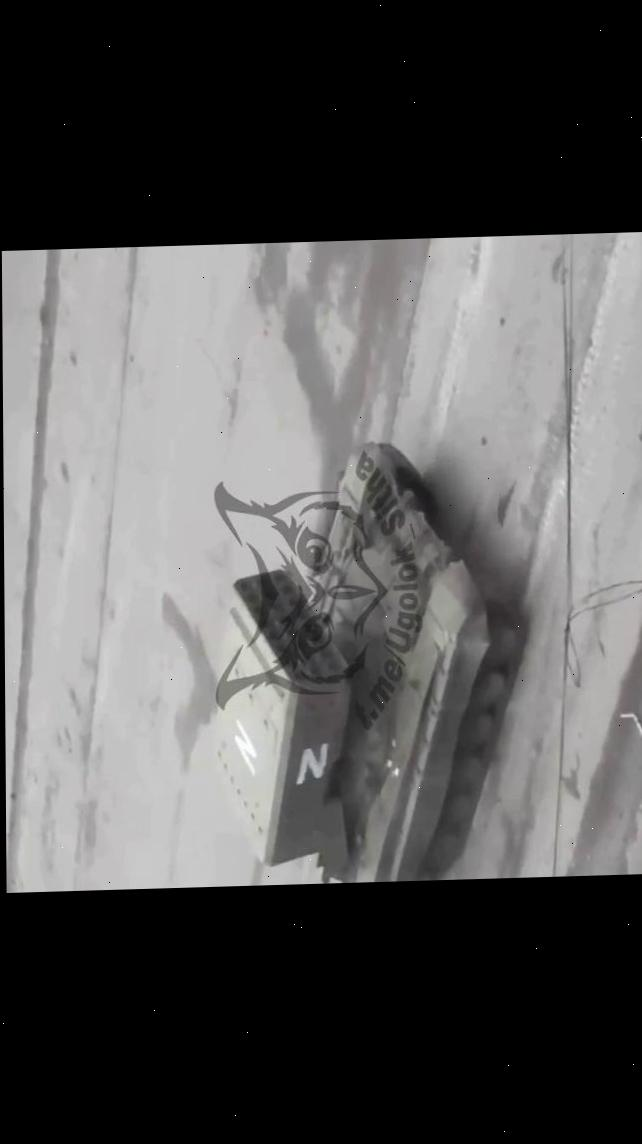rszo: (213, 434, 514, 887)
